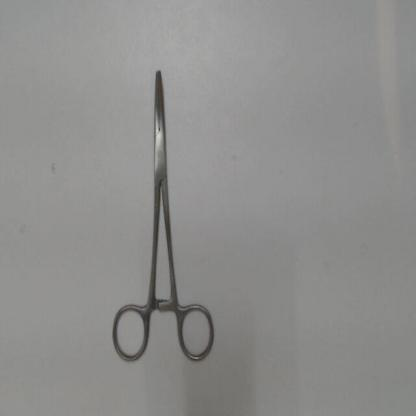Crile Artery Forceps: (108, 62, 222, 363)
